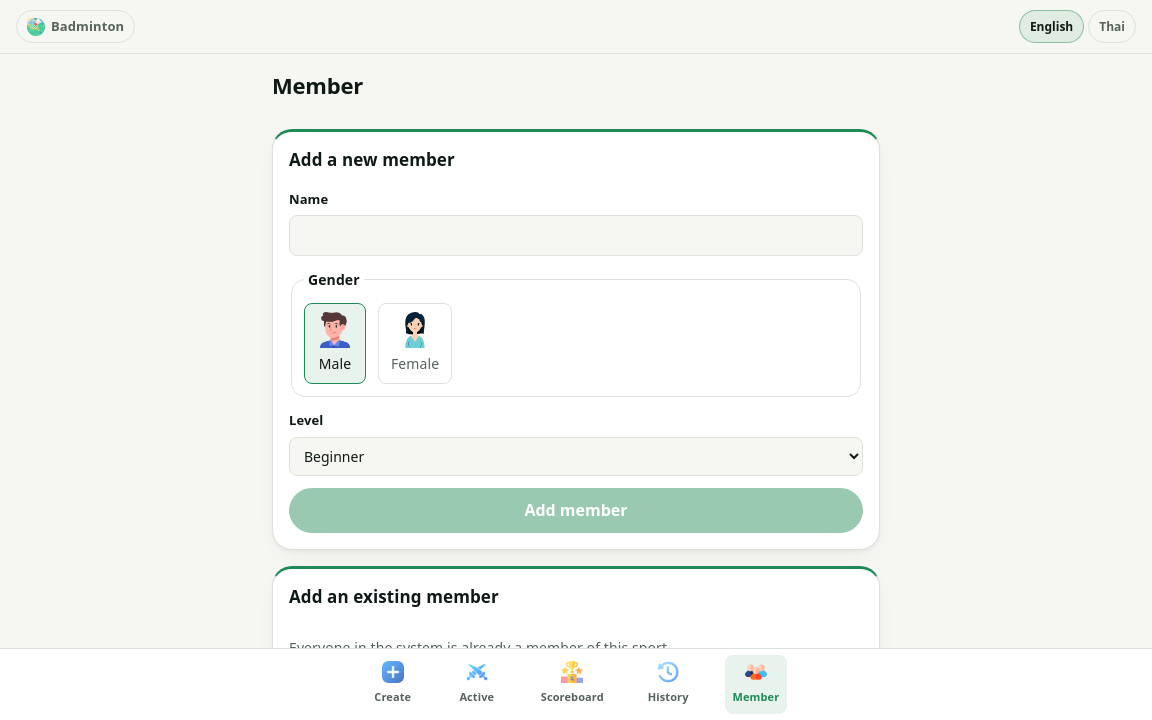
Test: App › the header switcher navigates to /home from any tab
Expected: the heading "Member" is shown, [272,70,363,100]
Click the link with aria-label "Switch sport" at (76, 27), box [16,10,135,43]
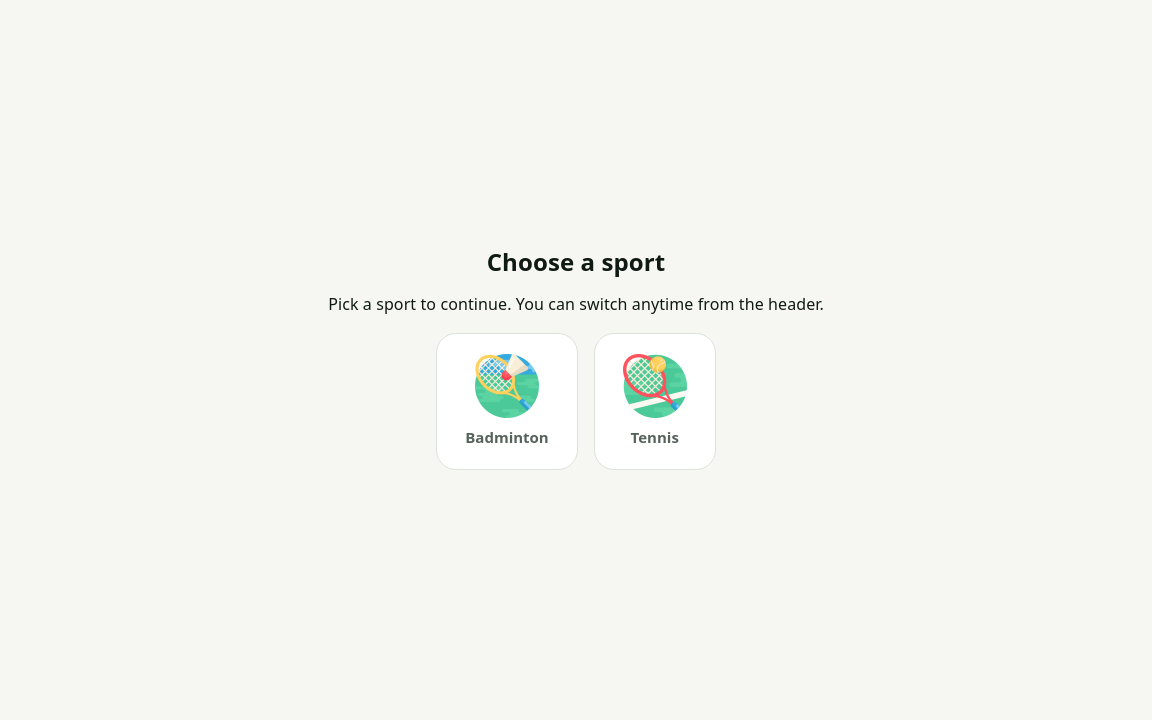
Now the heading "Choose a sport" is shown, box [487,250,665,273]
